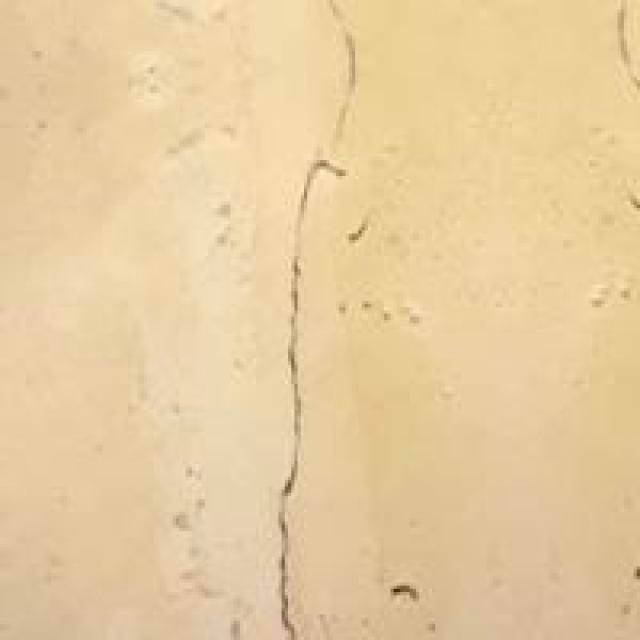Crack: (208, 16, 419, 637)
